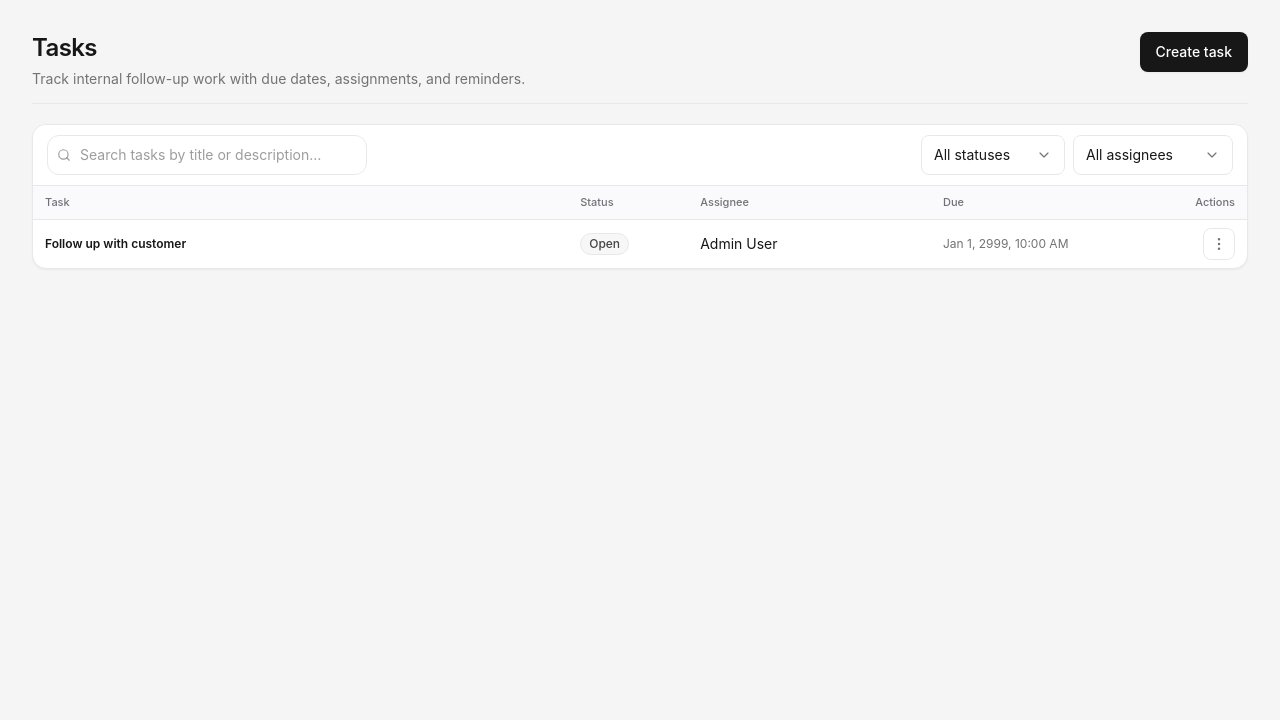
Test case: tasks workspace › portals the delete confirmation onto document.body, outside the table wrapper
Click the button named "Actions": (1219, 244) [1203,228,1235,260]
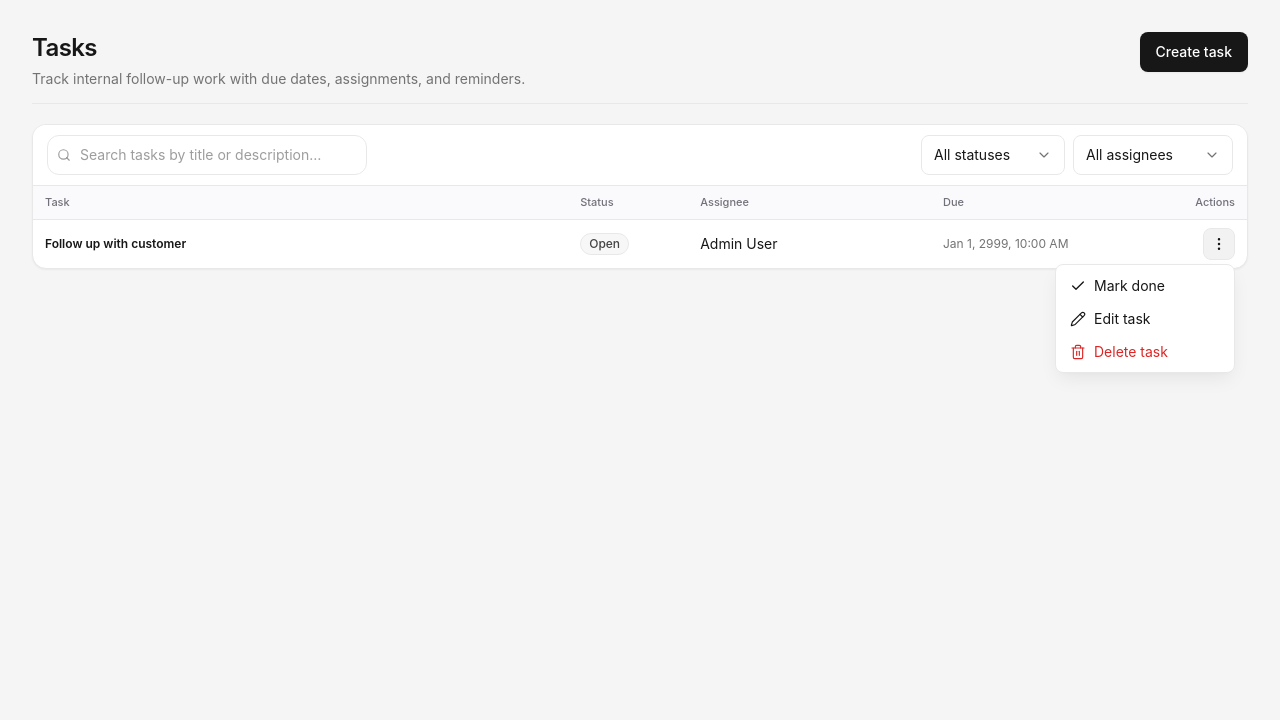
Click the menu item "Delete task": (1145, 352) [1060,335,1230,368]
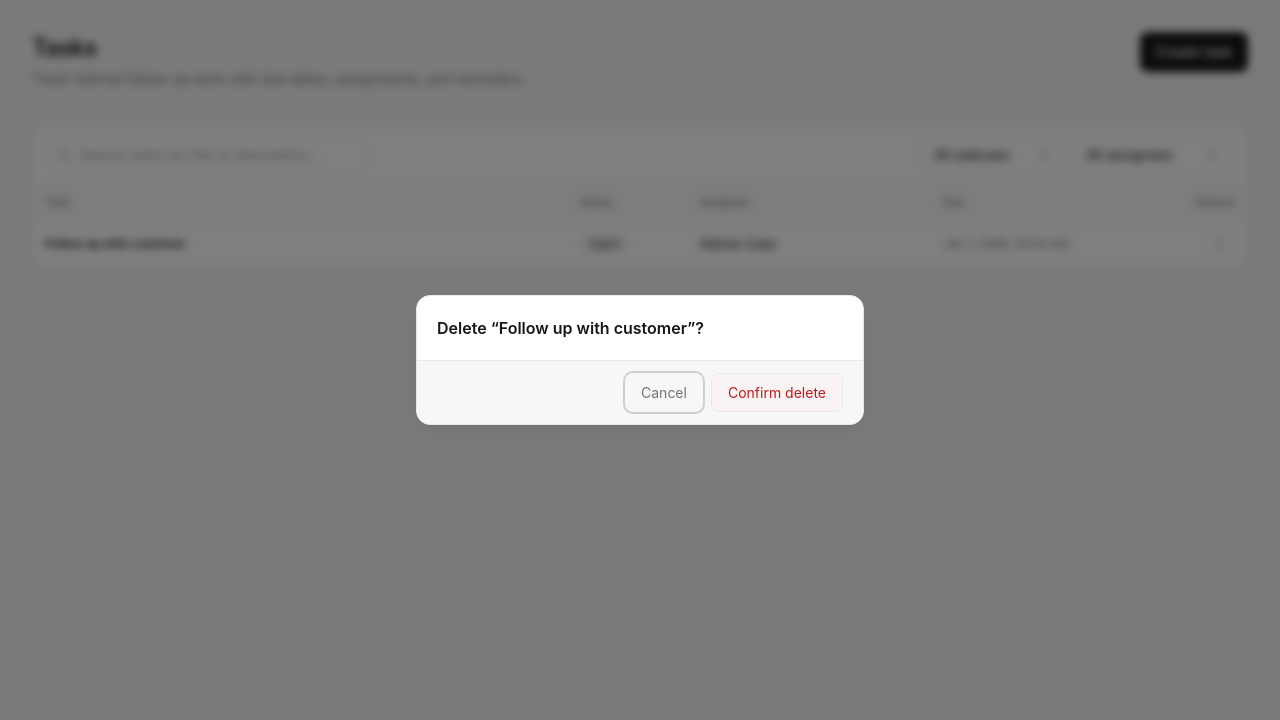
Expected: the number of dialogs is 1
